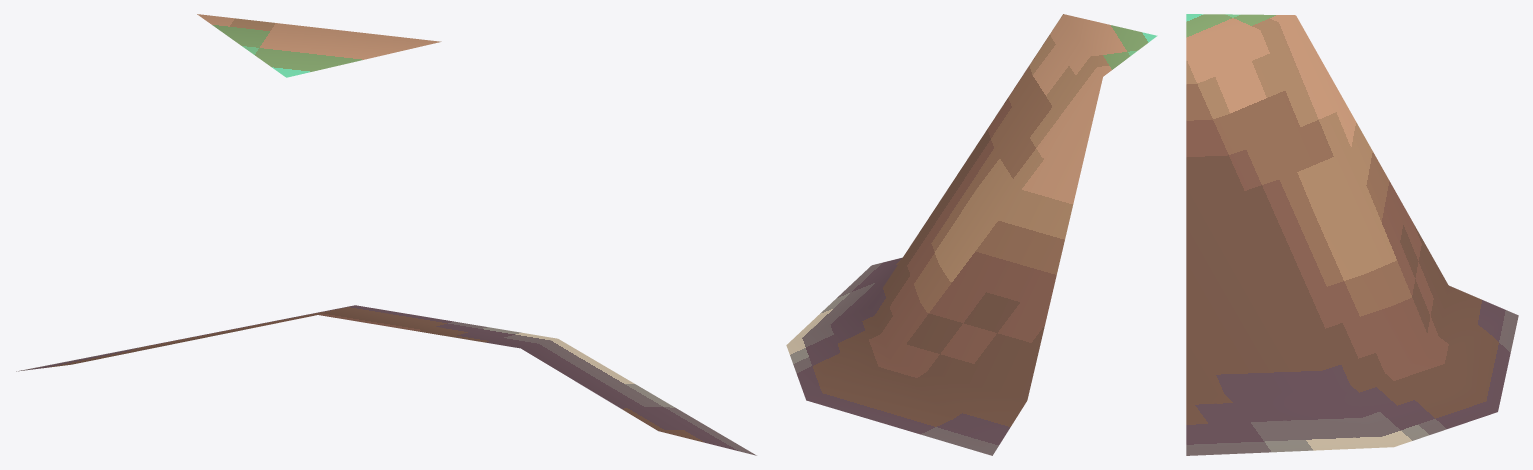
The picture shows the model from 3 angles, left to right: view 1: azimuth 30°, elevation 25°; view 2: azimuth 150°, elevation 25°; view 3: azimuth 270°, elevation 25°; orthographic projection. The views are drawn at different scales.
Bounding box in the file's own units: 1 × 1 × 1.
Materials: 1 (1 with a texture image).
